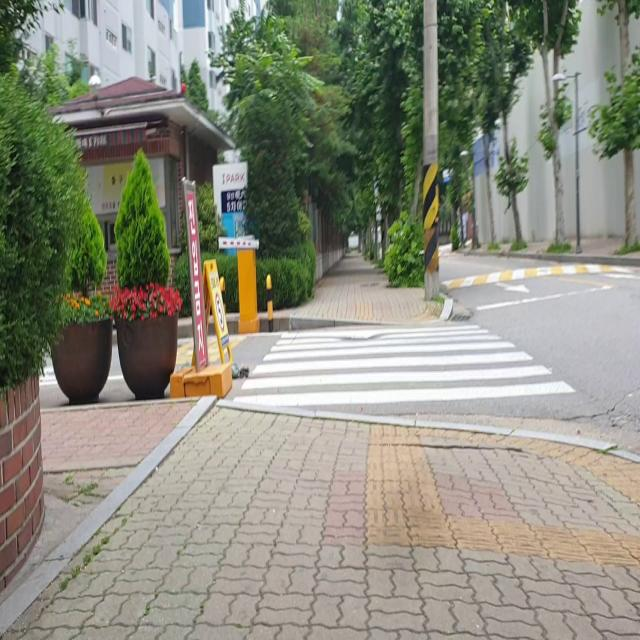횡단보도: (230, 322, 578, 410)
